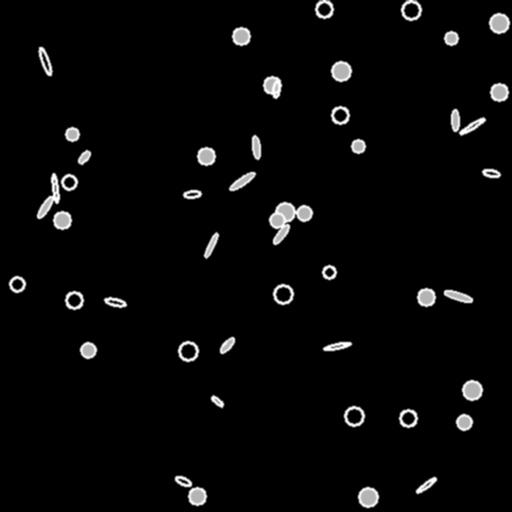pseudomonas: (228, 170, 256, 192), (459, 116, 485, 136), (37, 46, 53, 76), (35, 195, 55, 219), (203, 232, 219, 258), (272, 223, 290, 245), (444, 289, 472, 303), (416, 476, 436, 494), (218, 336, 236, 354), (323, 341, 351, 351), (77, 149, 91, 165), (51, 174, 59, 202), (104, 297, 126, 307), (174, 475, 192, 487), (210, 394, 224, 408), (252, 135, 260, 159), (482, 168, 500, 178), (272, 80, 280, 98), (183, 190, 201, 198), (452, 109, 458, 131)
synechocystis: (276, 203, 294, 221), (463, 381, 481, 399), (359, 488, 377, 506), (402, 1, 420, 19), (490, 14, 508, 32), (345, 407, 363, 425), (274, 285, 292, 303), (179, 342, 197, 360), (332, 62, 350, 80), (189, 488, 205, 504), (198, 148, 214, 164), (332, 107, 348, 123), (54, 212, 70, 228), (316, 1, 332, 17), (66, 292, 82, 308), (400, 410, 416, 426), (264, 77, 280, 93), (233, 28, 249, 44), (418, 289, 434, 305), (491, 84, 507, 100), (297, 206, 311, 220), (81, 343, 95, 357), (270, 213, 284, 227), (10, 277, 24, 291), (62, 175, 76, 189), (457, 415, 471, 429), (445, 32, 457, 44), (66, 128, 78, 140), (352, 140, 364, 152), (323, 266, 335, 278)
